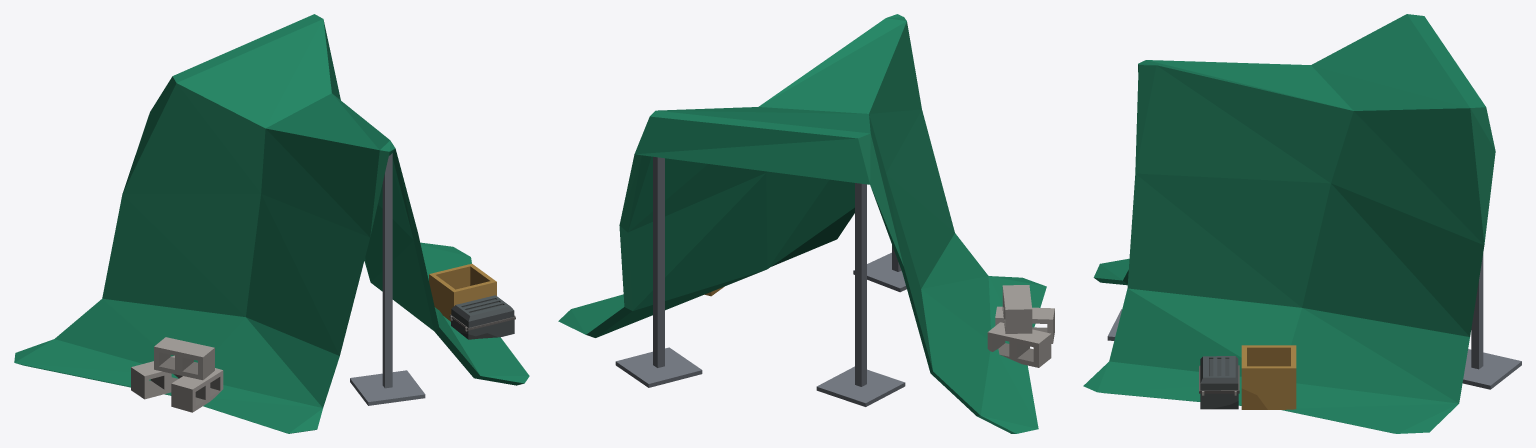
File: AI_Prop_Makeshift_Tent_04.fbx
3 views of the same model, side by side, from view 1: azimuth 30°, elevation 25°; view 2: azimuth 150°, elevation 25°; view 3: azimuth 270°, elevation 25° (orthographic). The views are drawn at different scales.
Parts seen in each view (by area): view 1: AI_Prop_Makeshift_Tent_04; view 2: AI_Prop_Makeshift_Tent_04; view 3: AI_Prop_Makeshift_Tent_04.
Boxes of the visible parts, x1,y1,x2,y2 form: AI_Prop_Makeshift_Tent_04: [14, 14, 529, 433]; AI_Prop_Makeshift_Tent_04: [558, 14, 1054, 433]; AI_Prop_Makeshift_Tent_04: [1083, 14, 1521, 433].
Size of the model in its own units: 7.04 by 3.68 by 5.4.
